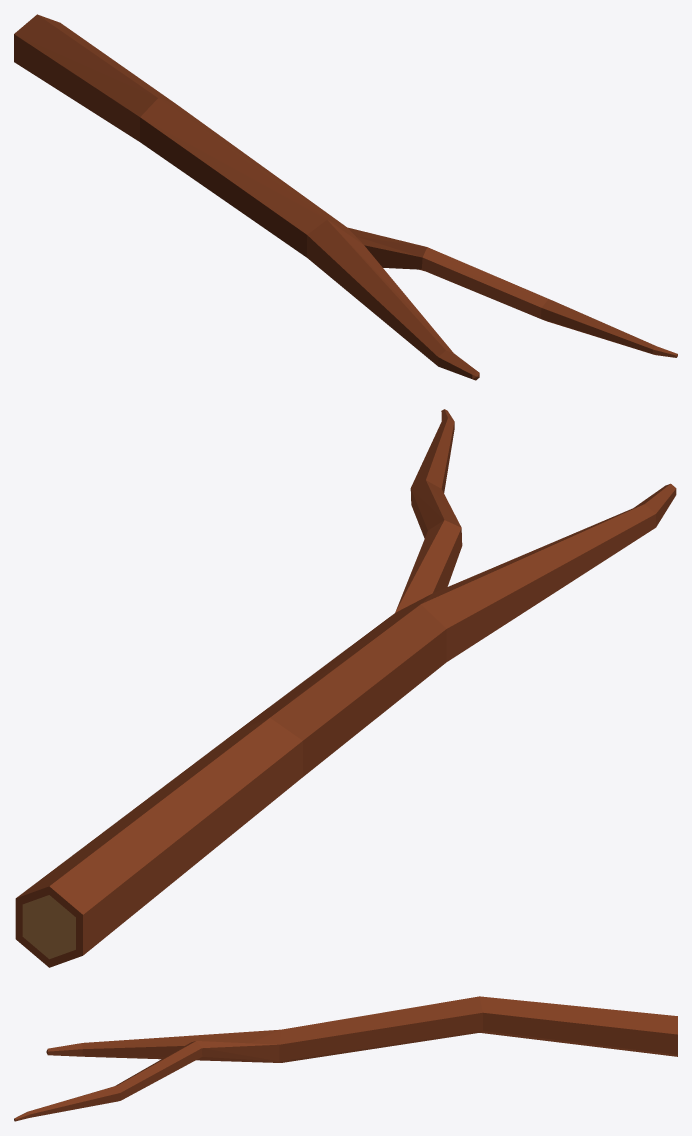
The model's file is Log_2.fbx.
The picture shows the model from 3 angles, top to bottom: view 1: azimuth 30°, elevation 25°; view 2: azimuth 150°, elevation 25°; view 3: azimuth 270°, elevation 25°; orthographic projection. The views are drawn at different scales.
Parts seen in each view (by area): view 1: Log.2; view 2: Log.2; view 3: Log.2.
Part boxes in pixels (bbox=[...]): Log.2: bbox=[14, 14, 677, 380]; Log.2: bbox=[15, 409, 676, 967]; Log.2: bbox=[14, 996, 677, 1121].
Bounding box in the file's own units: 53.34 × 17.48 × 190.
